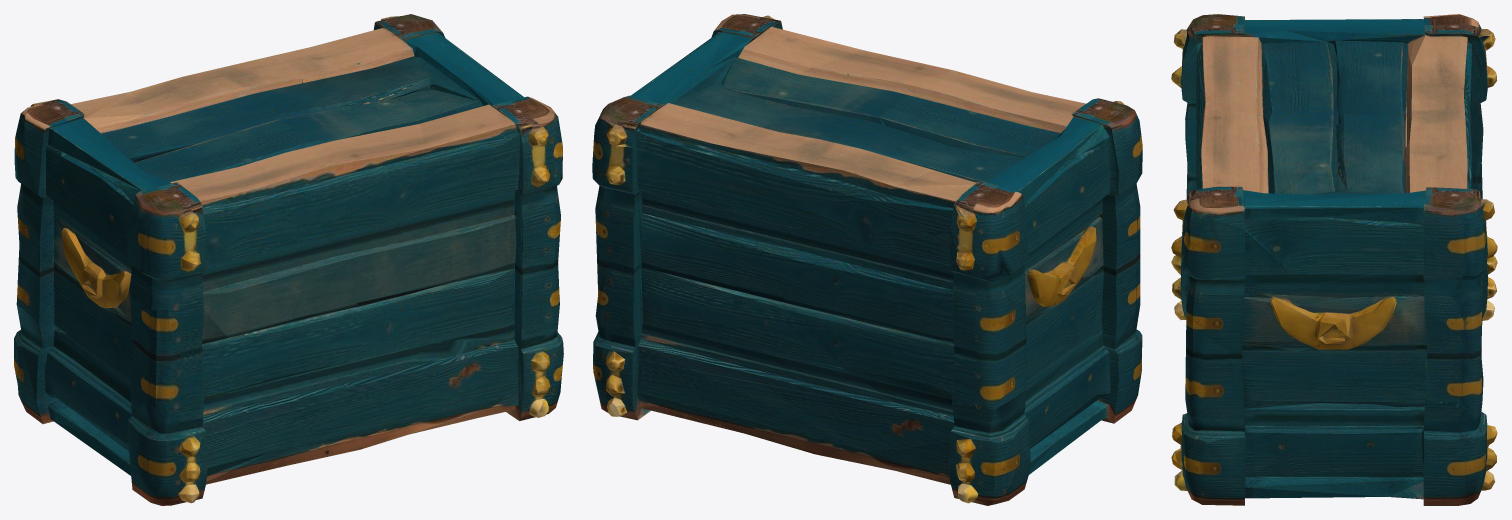
File: crate-teal.glb
3 renders of one model, left to right at view 1: azimuth 30°, elevation 25°; view 2: azimuth 150°, elevation 25°; view 3: azimuth 270°, elevation 25°, orthographic.
Bounding box in the file's own units: 0.7327 × 0.5 × 0.4963.
Materials: 1 (1 with a texture image).
